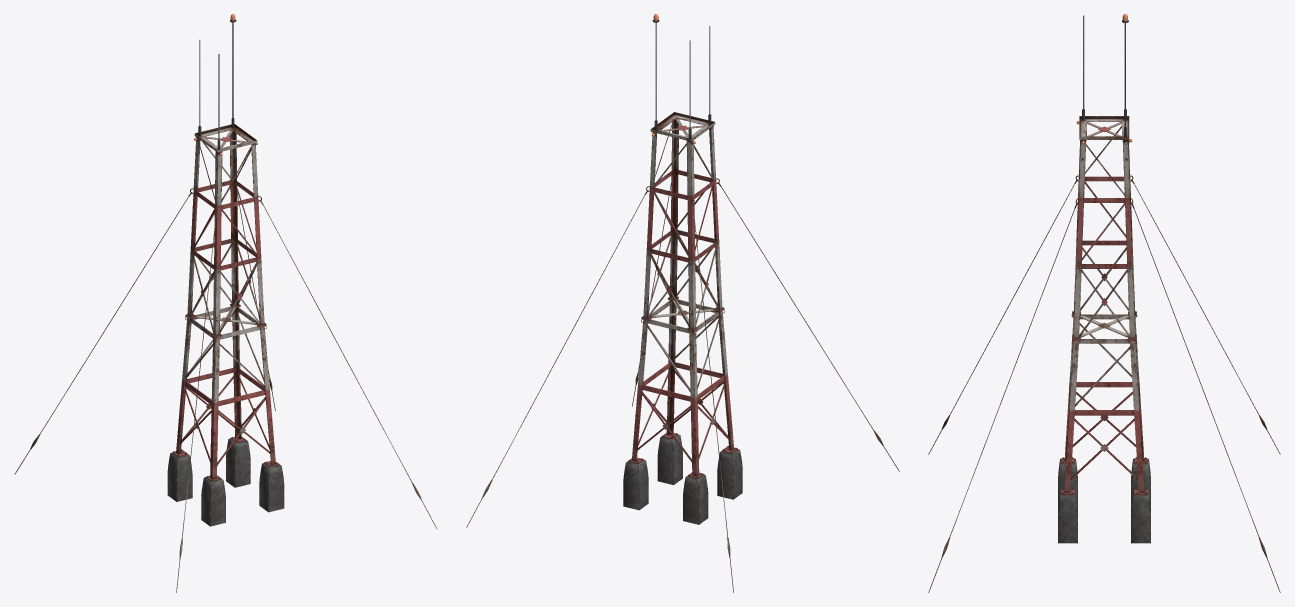
File: SM_Tower01.FBX
The picture shows the model from 3 angles, left to right: view 1: azimuth 30°, elevation 25°; view 2: azimuth 150°, elevation 25°; view 3: azimuth 270°, elevation 25°; orthographic projection. The views are drawn at different scales.
Parts seen in each view (by area): view 1: SM_Tower01_LOD0; view 2: SM_Tower01_LOD0; view 3: SM_Tower01_LOD0.
Part boxes in pixels (x1,y1,x2,y2): SM_Tower01_LOD0: (14,14,436,592); SM_Tower01_LOD0: (466,14,899,592); SM_Tower01_LOD0: (928,14,1280,592).
Bounding box in the file's own units: 2015 × 2164 × 3516.
